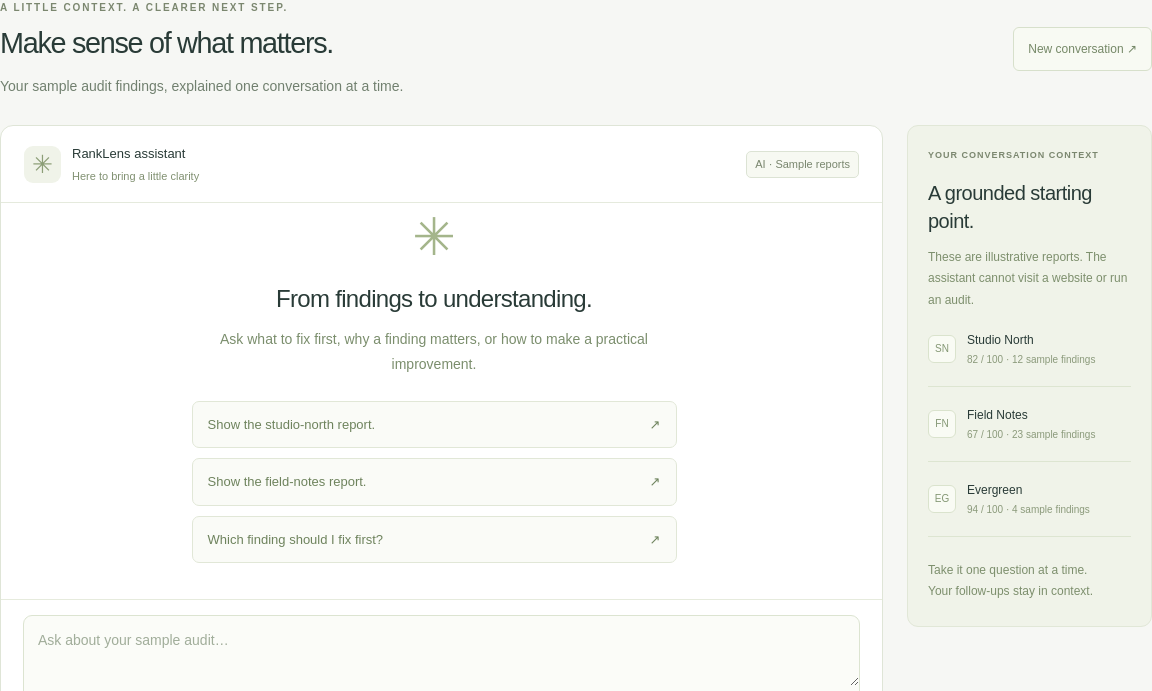
reports HTTP errors and re-enables the input/send controls
The image size is (1152, 691).
(page scrolled)
Step 1. Type "A question" into the text box named "Ask about the sample audit" → (442, 651), box [24,616,859,686]
(page scrolled)
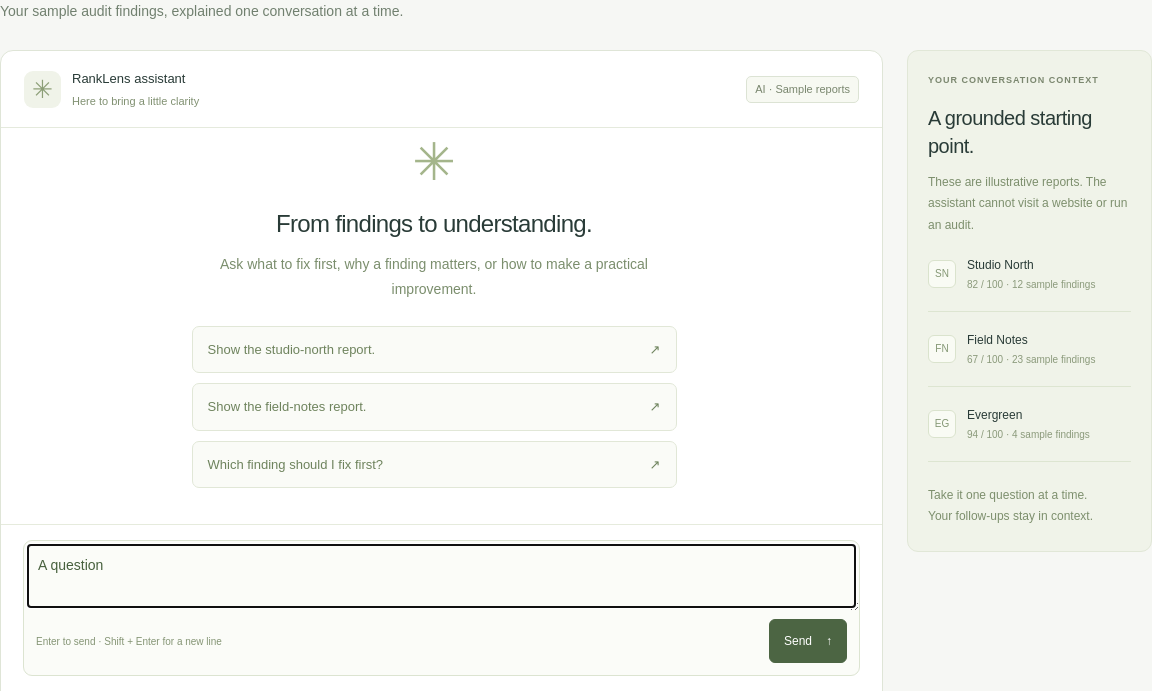
Step 2. Click the button "Send ↑" → click(808, 641), box [769,619,847,663]
(page scrolled)
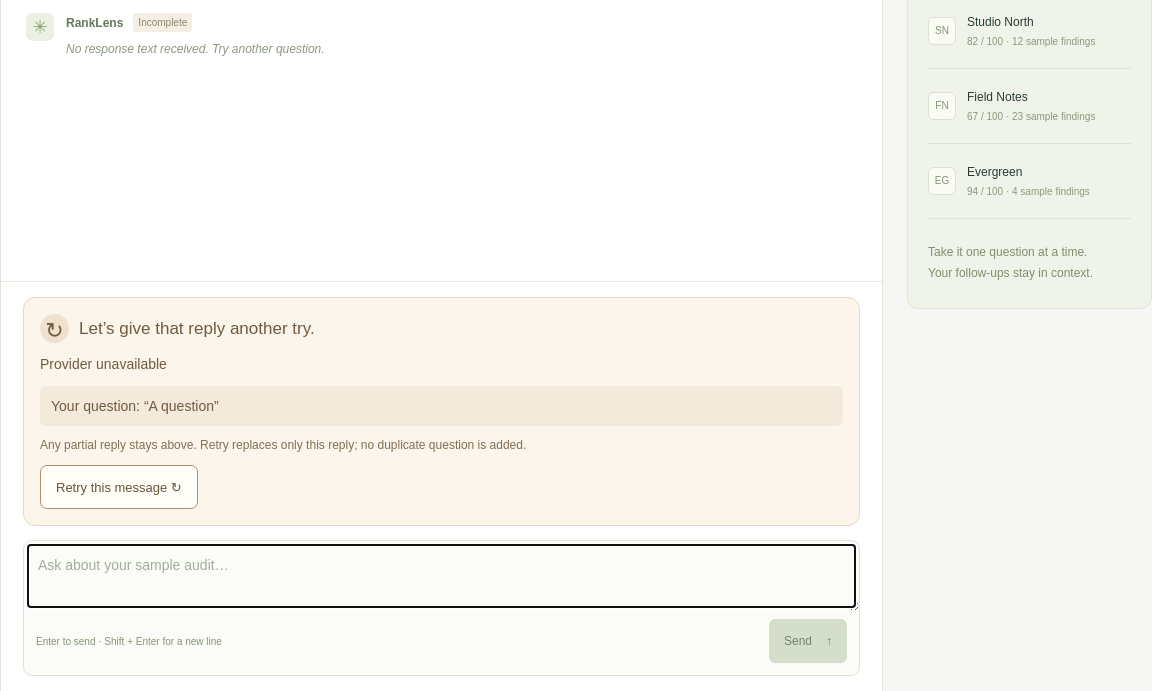
Expected: the text box named "Ask about the sample audit" is enabled, [24,541,859,611]
Result: the message shows "Provider unavailable" at [40,356,167,372]
